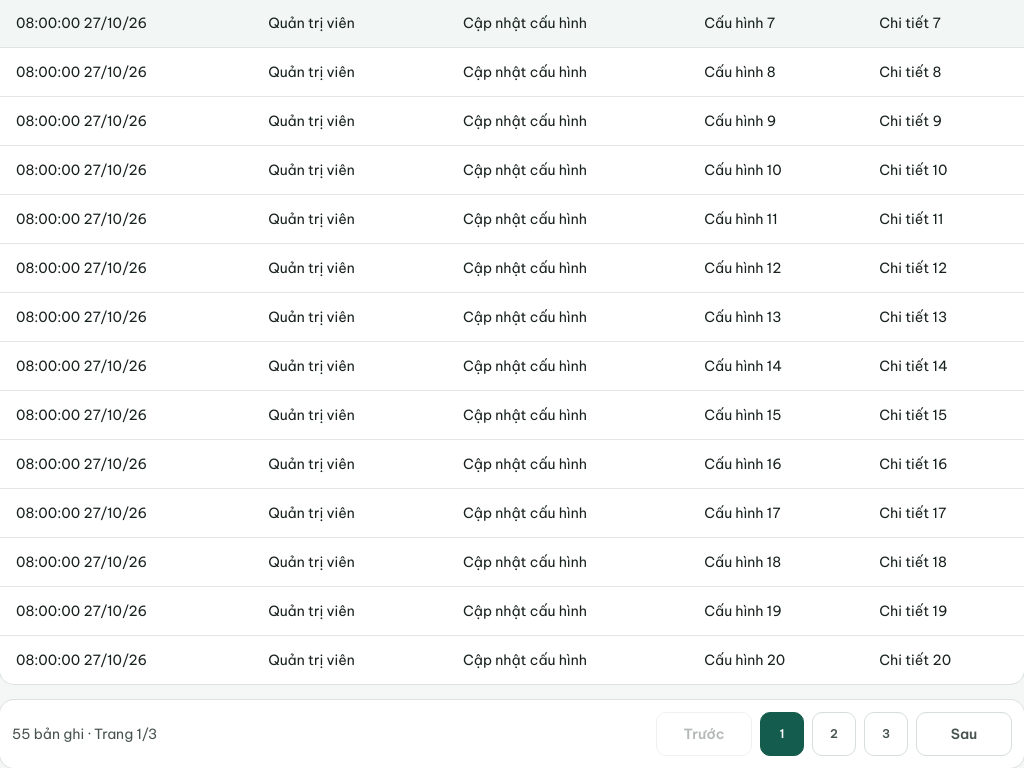
Scenario: AdminAuditLogs pagination › cố định 20 bản ghi và lấy đúng dữ liệu của trang được chọn
(page scrolled)
Expected: the text "55 bản ghi · Trang 1/3" is shown, [12,724,157,744]
Expected: the text "Cấu hình 20" is shown, [688,636,863,684]
Click the button named "Trang 2". click: (834, 734)
box: [812,712,856,756]
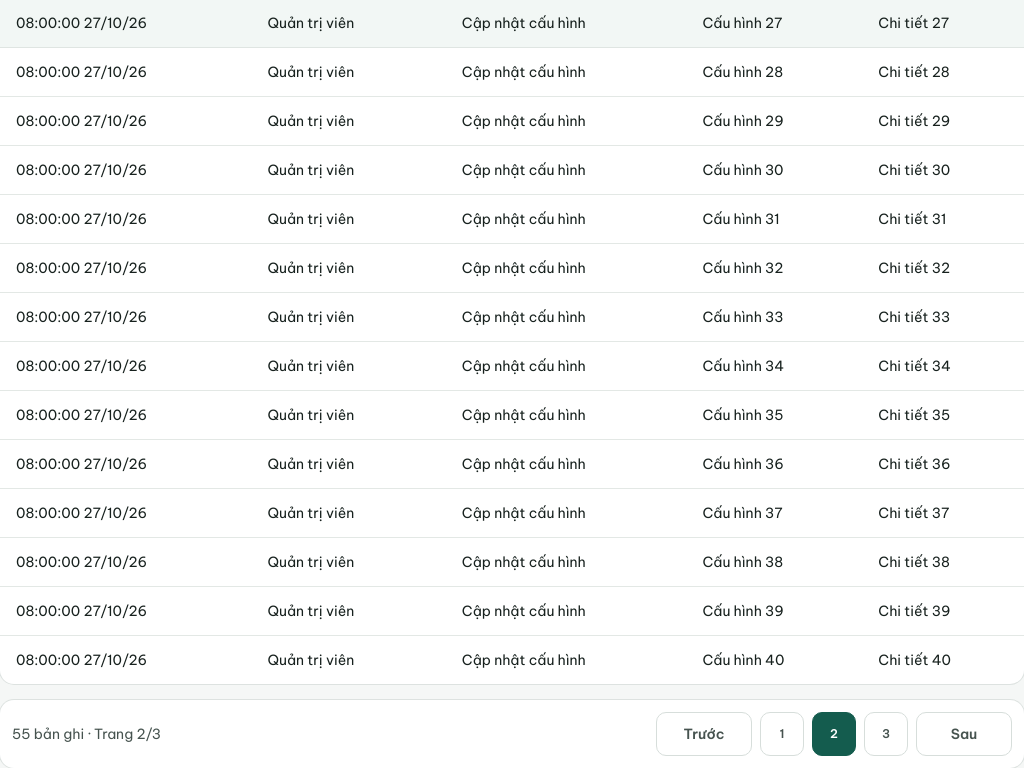
Expected: the text "55 bản ghi · Trang 2/3" is shown, [12,724,161,744]
Expected: the text "Cấu hình 40" is shown, [686,636,862,684]
Expected: the text "Cấu hình 20" is gone
